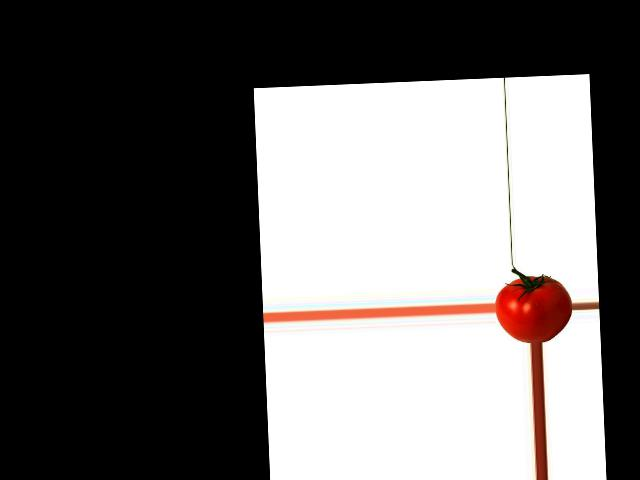tomato: (494, 274, 574, 343)
